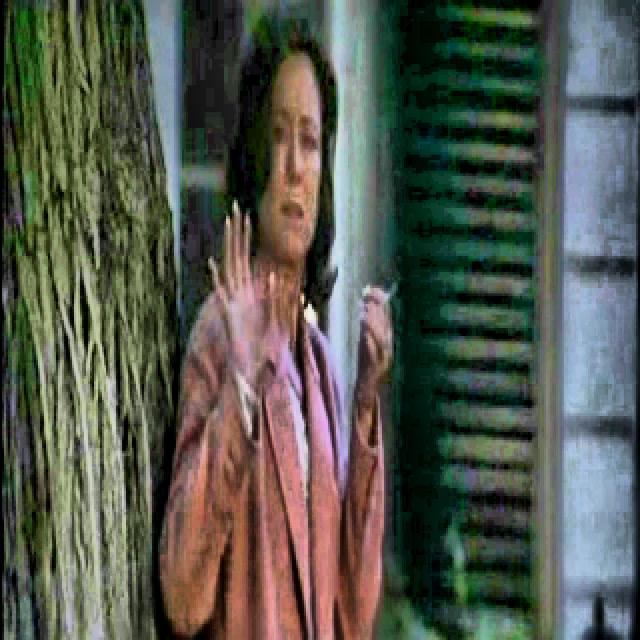T: (142, 1, 386, 640)
